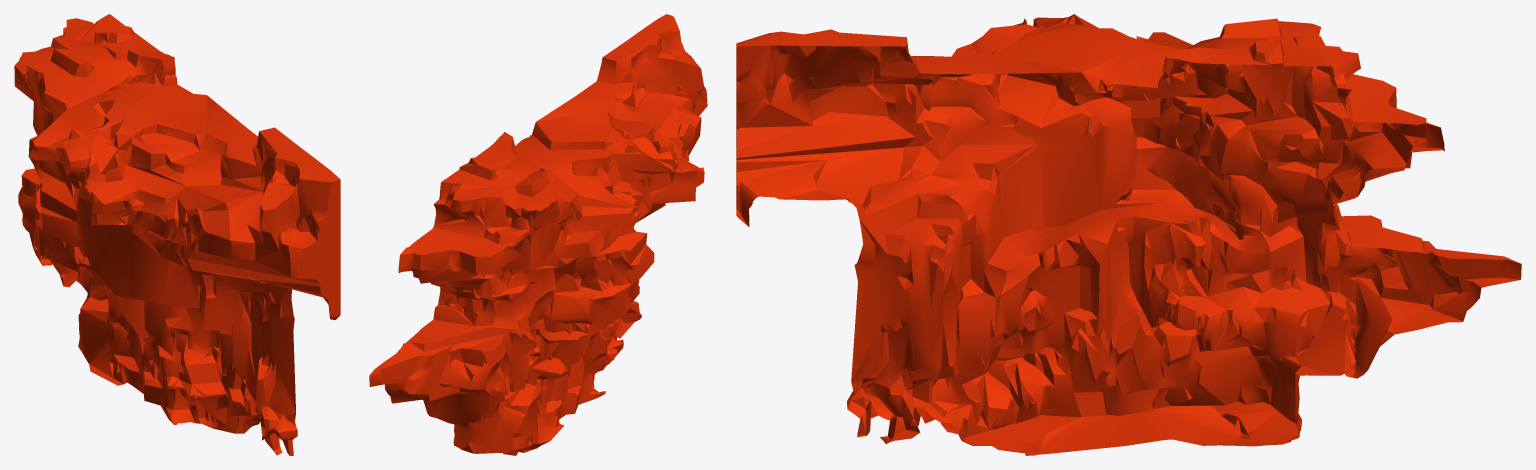
Rendered from canyon_rock_wall_01.fbx.
The picture shows the model from 3 angles, left to right: view 1: azimuth 30°, elevation 25°; view 2: azimuth 150°, elevation 25°; view 3: azimuth 270°, elevation 25°; orthographic projection. The views are drawn at different scales.
Parts seen in each view (by area): view 1: Circle.011; view 2: Circle.011; view 3: Circle.011.
Boxes of the visible parts, x1,y1,x2,y2 form: Circle.011: [14, 14, 340, 455]; Circle.011: [369, 14, 707, 455]; Circle.011: [736, 14, 1521, 455].
Size of the model in its own units: 1863 by 3785 by 6570.
